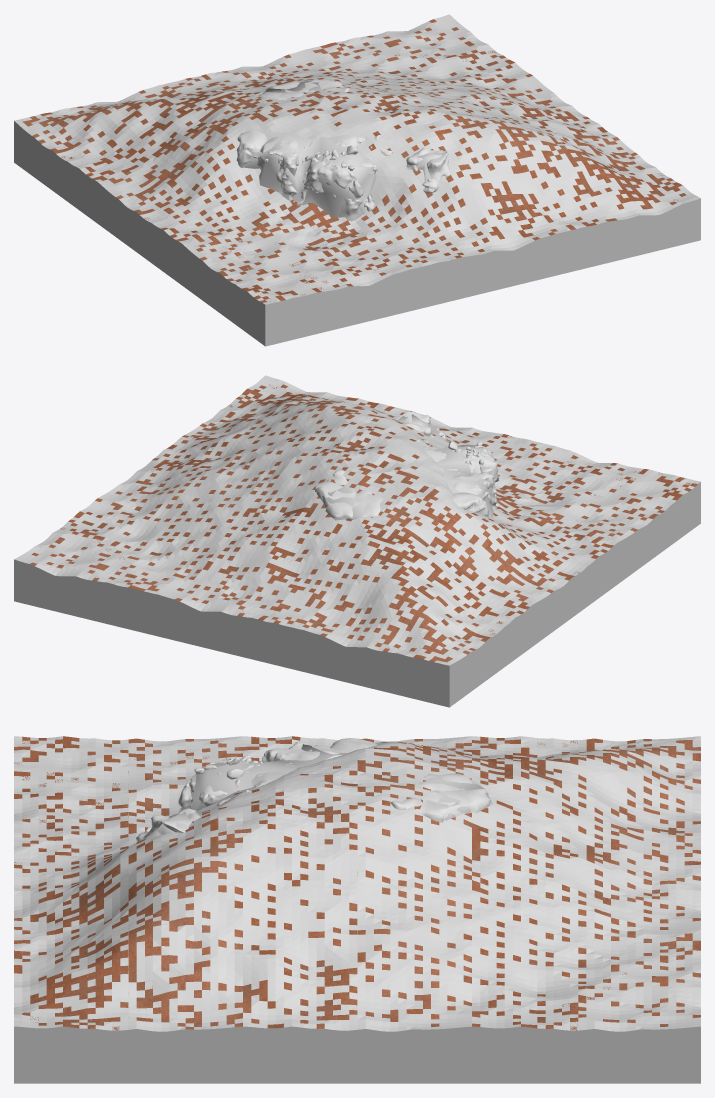
Rendered from Ground_hill_01.fbx.
The picture shows the model from 3 angles, top to bottom: view 1: azimuth 30°, elevation 25°; view 2: azimuth 150°, elevation 25°; view 3: azimuth 270°, elevation 25°; orthographic projection. The views are drawn at different scales.
Parts seen in each view (by area): view 1: Ground_hill_08_M01_Collidor, Ground_hill_07_M03_Collidor, Ground_hill_09_M02_Collidor, Ground_hill_04_M02_Collidor, Ground_hill_01_M01_Collidor, Ground_hill_03_M01_Collidor, Ground_hill_05_M01_Collidor, Ground_hill_rock_02_M01_LOD0, Ground_hill_09_M02_LOD0, Ground_hill_06_M01_Collidor, Ground_hill_rock_02_M01_Collidor, Ground_hill_08_M01_LOD0 (+9 smaller); view 2: Ground_hill_01_M01_Collidor, Ground_hill_02_M02_Collidor, Ground_hill_03_M01_Collidor, Ground_hill_07_M03_Collidor, Ground_hill_04_M02_Collidor, Ground_hill_05_M01_Collidor, Ground_hill_06_M01_Collidor, Ground_hill_01_M01_LOD0, Ground_hill_04_M02_LOD0, Ground_hill_09_M02_Collidor, Ground_hill_02_M02_LOD0, Ground_hill_08_M01_Collidor (+10 smaller); view 3: Ground_hill_06_M01_Collidor, Ground_hill_09_M02_Collidor, Ground_hill_03_M01_Collidor, Ground_hill_02_M02_Collidor, Ground_hill_05_M01_Collidor, Ground_hill_07_M03_Collidor, Ground_hill_01_M01_Collidor, Ground_hill_08_M01_Collidor, Ground_hill_09_M02_LOD0, Ground_hill_06_M01_LOD0, Ground_hill_02_M02_LOD0, Ground_hill_03_M01_LOD0 (+10 smaller).
Part boxes in pixels (x1,y1,x2,y2): Ground_hill_08_M01_Collidor: [348, 116, 555, 310]; Ground_hill_07_M03_Collidor: [181, 204, 410, 346]; Ground_hill_09_M02_Collidor: [473, 116, 700, 275]; Ground_hill_04_M02_Collidor: [97, 101, 301, 284]; Ground_hill_01_M01_Collidor: [14, 85, 239, 223]; Ground_hill_03_M01_Collidor: [304, 14, 529, 88]; Ground_hill_05_M01_Collidor: [243, 85, 470, 150]; Ground_hill_rock_02_M01_LOD0: [236, 130, 450, 221]; Ground_hill_09_M02_LOD0: [481, 117, 686, 231]; Ground_hill_06_M01_Collidor: [389, 76, 616, 138]; Ground_hill_rock_02_M01_Collidor: [240, 132, 448, 217]; Ground_hill_08_M01_LOD0: [346, 116, 555, 267]; Ground_hill_01_M01_Collidor: [304, 523, 533, 707]; Ground_hill_02_M02_Collidor: [159, 507, 387, 671]; Ground_hill_03_M01_Collidor: [14, 500, 242, 636]; Ground_hill_07_M03_Collidor: [496, 446, 700, 584]; Ground_hill_04_M02_Collidor: [393, 476, 617, 645]; Ground_hill_05_M01_Collidor: [243, 416, 444, 521]; Ground_hill_06_M01_Collidor: [98, 416, 326, 510]; Ground_hill_01_M01_LOD0: [310, 521, 529, 662]; Ground_hill_04_M02_LOD0: [388, 485, 613, 601]; Ground_hill_09_M02_Collidor: [185, 375, 410, 438]; Ground_hill_02_M02_LOD0: [175, 507, 384, 628]; Ground_hill_08_M01_Collidor: [327, 403, 555, 489]; Ground_hill_06_M01_Collidor: [243, 853, 471, 1083]; Ground_hill_09_M02_Collidor: [14, 852, 242, 1083]; Ground_hill_03_M01_Collidor: [472, 894, 700, 1083]; Ground_hill_02_M02_Collidor: [472, 768, 700, 932]; Ground_hill_05_M01_Collidor: [243, 754, 471, 894]; Ground_hill_07_M03_Collidor: [14, 736, 242, 836]; Ground_hill_01_M01_Collidor: [472, 736, 700, 833]; Ground_hill_08_M01_Collidor: [14, 790, 242, 930]; Ground_hill_09_M02_LOD0: [14, 852, 242, 1030]; Ground_hill_06_M01_LOD0: [243, 855, 471, 1028]; Ground_hill_02_M02_LOD0: [472, 770, 700, 929]; Ground_hill_03_M01_LOD0: [472, 897, 700, 1030].
Size of what is drawn, in the model's own units: 6000 by 1393 by 6000.
